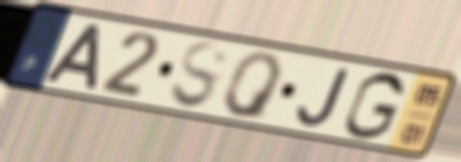2: (97, 31, 165, 102)
A: (41, 22, 107, 93)
G: (340, 70, 408, 143)
J: (295, 65, 355, 130)
Q: (221, 51, 286, 123)
S: (167, 39, 232, 113)
